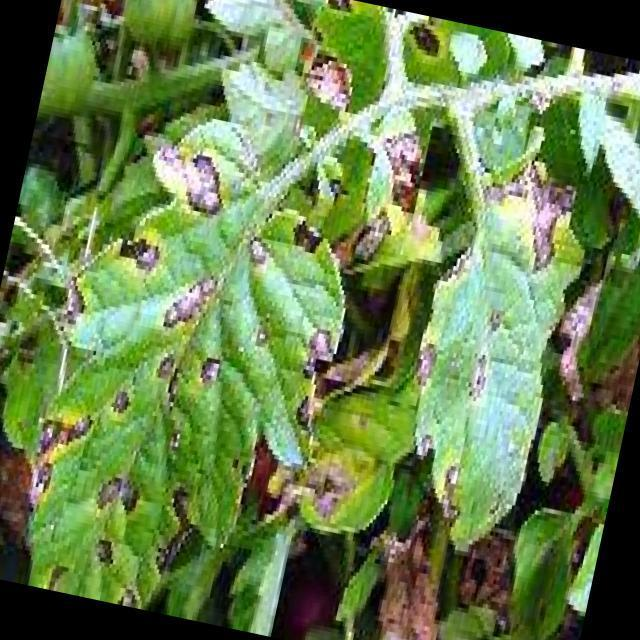Septoria: (6, 126, 370, 630), (389, 280, 526, 529)
